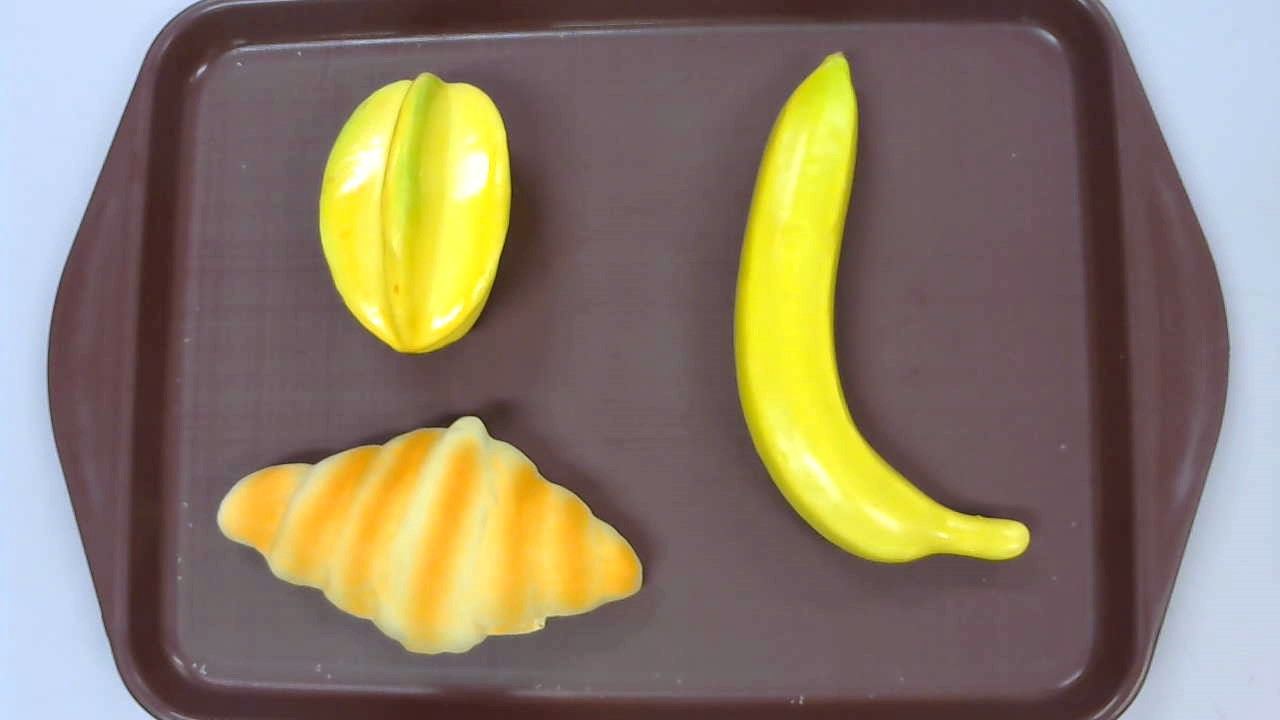banana: (731, 51, 1029, 563)
croissant: (218, 417, 641, 653)
star fruit: (317, 72, 514, 354)
